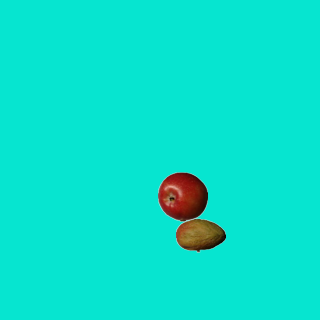Apple Braeburn: (157, 171, 207, 221)
Papaya: (175, 210, 225, 260)
